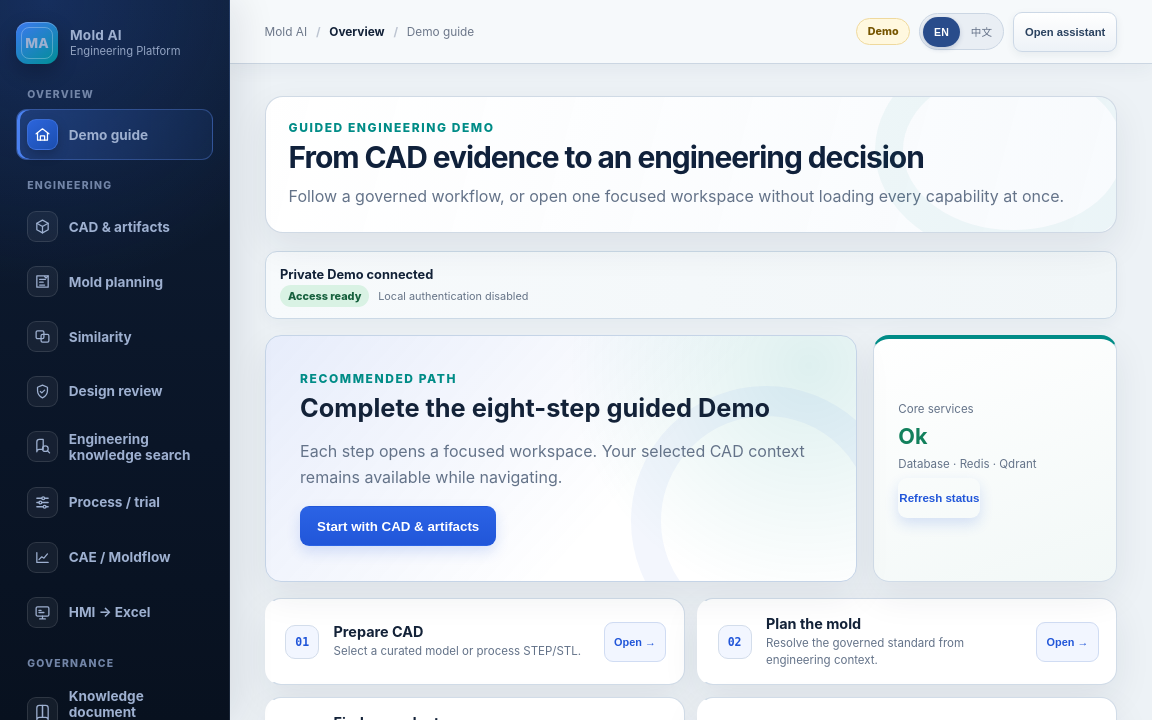
Scenario: App › keeps the engineering assistant hidden by default and opens it on demand
Click the button with class "assistant-toggle" at (1065, 32), box [1013, 12, 1118, 52]
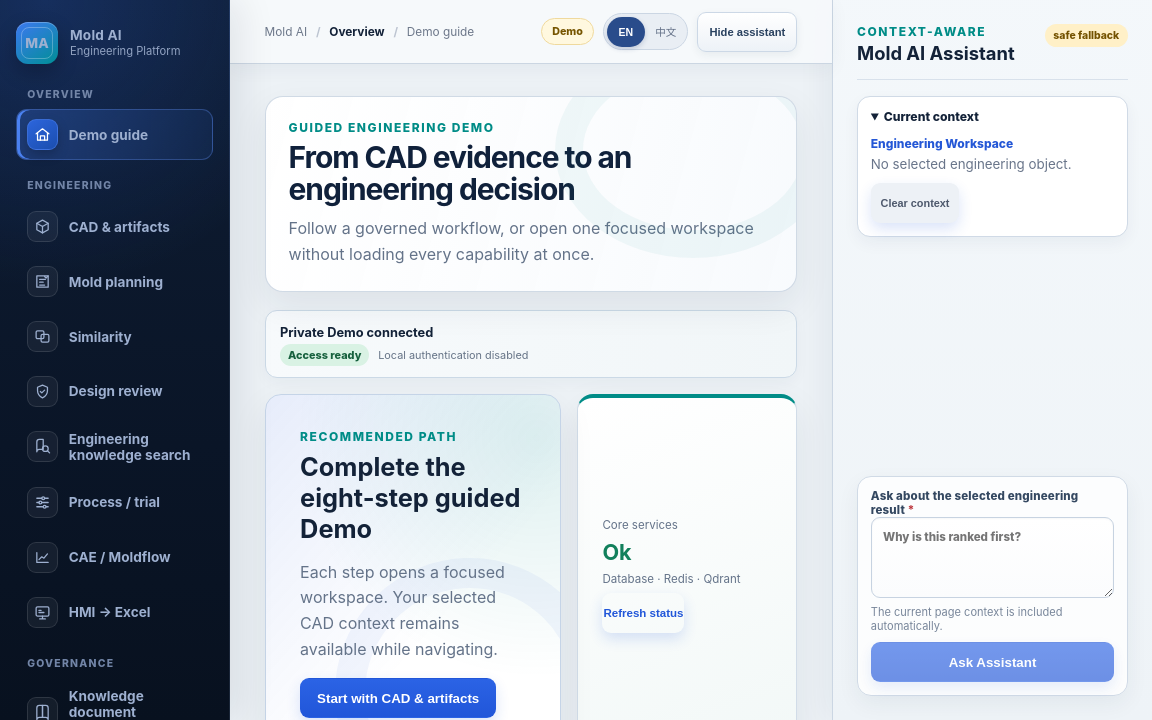
Expected: the element with class "assistant-panel" is shown, [832, 0, 1151, 719]
Expected: the button with class "assistant-toggle" reads "Hide assistant", [697, 12, 797, 52]
